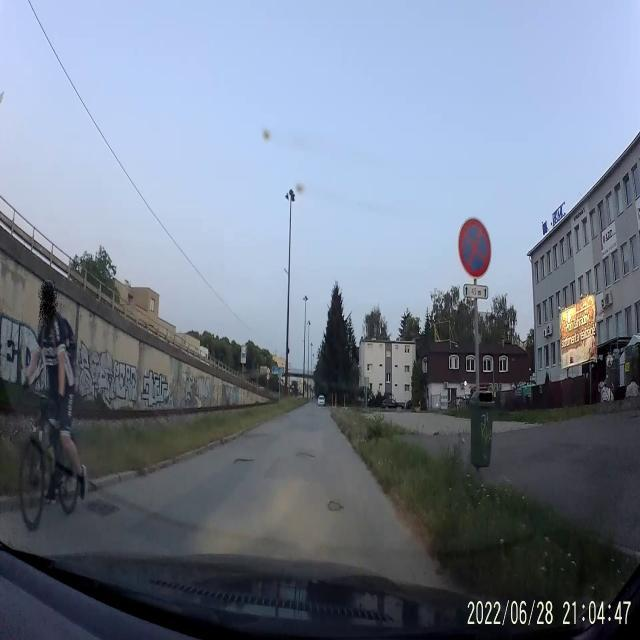Manhole: (84, 494, 119, 524)
Pothole: (326, 497, 344, 517), (294, 447, 316, 460), (235, 452, 252, 468)
